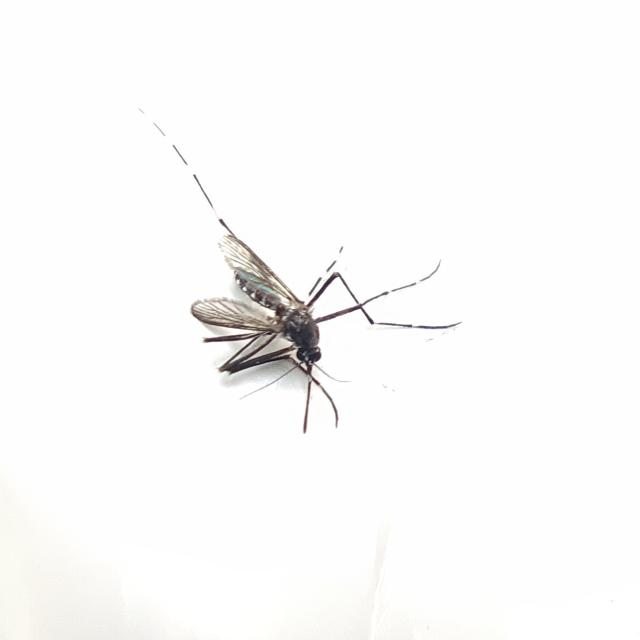albopictus: (116, 99, 467, 431)
